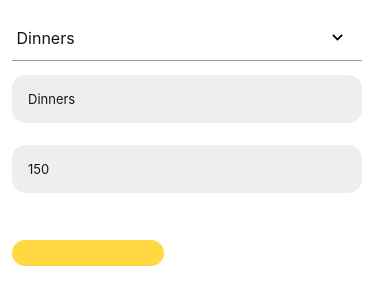
CategoryEdit › check error on incorrect limit value
The image size is (379, 301).
Replace the text in the field with id "name-inp" with "Category name" at (187, 99), box x1=12 y1=75 x2=362 y2=122
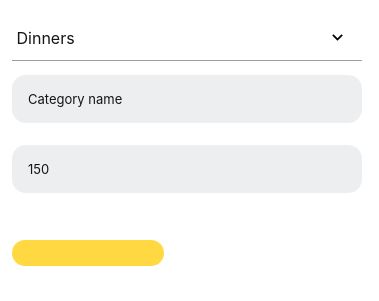
Replace the text in the number field with id "limit" with "50" at (187, 169), box x1=12 y1=145 x2=362 y2=192
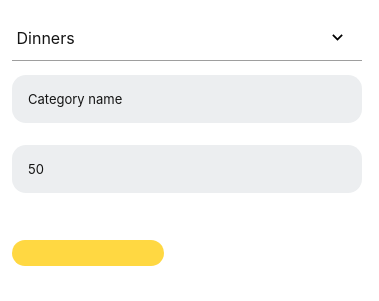
Submit the form
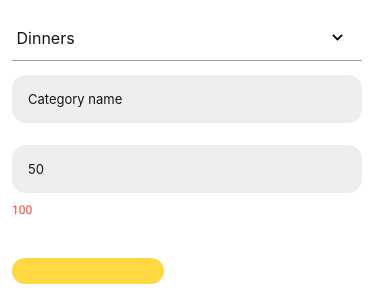
Result: the text "100" is shown at x1=12 y1=202 x2=32 y2=216
